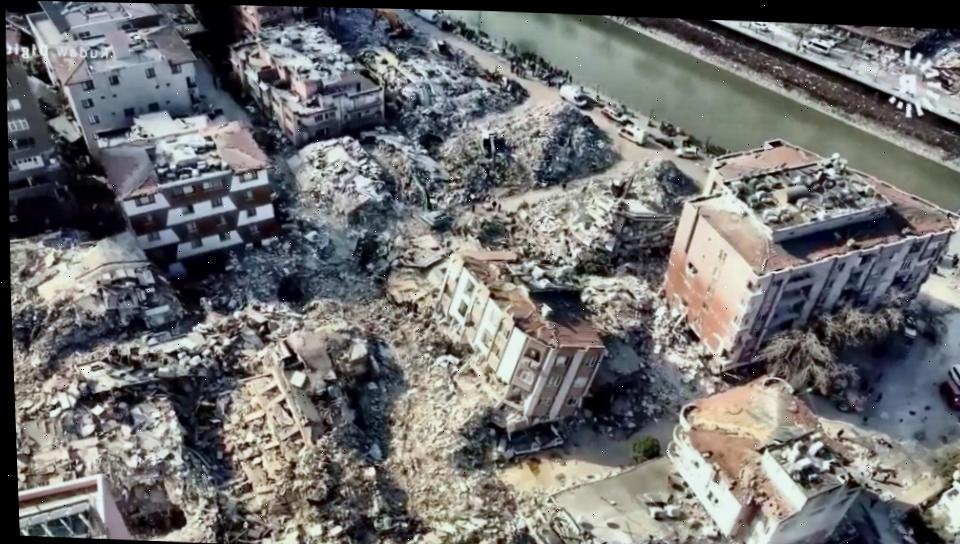kapali: (259, 444, 579, 544)
